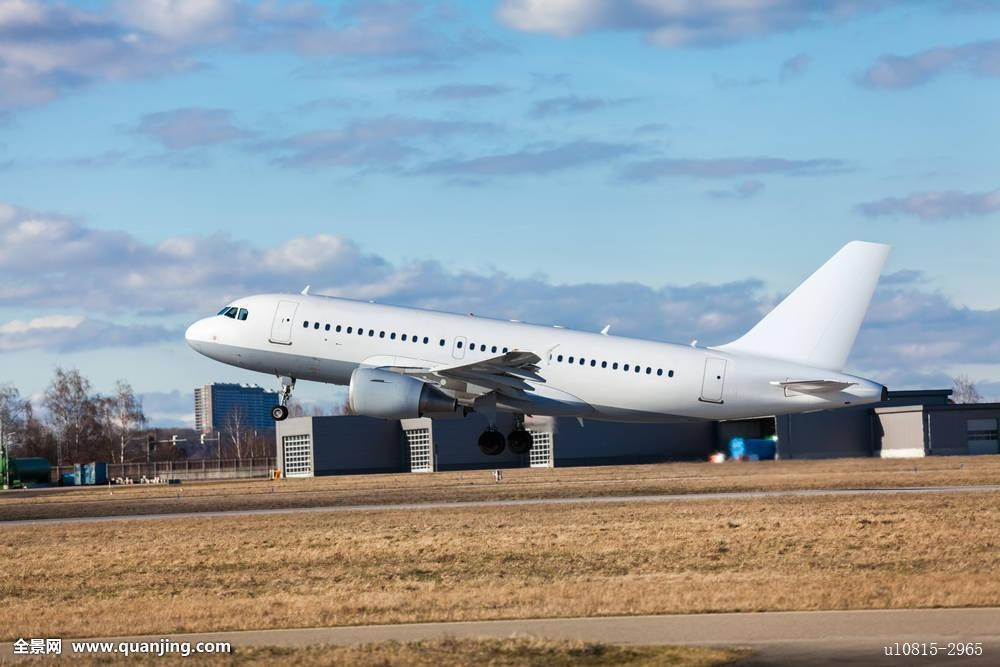airplane: (189, 236, 917, 445)
